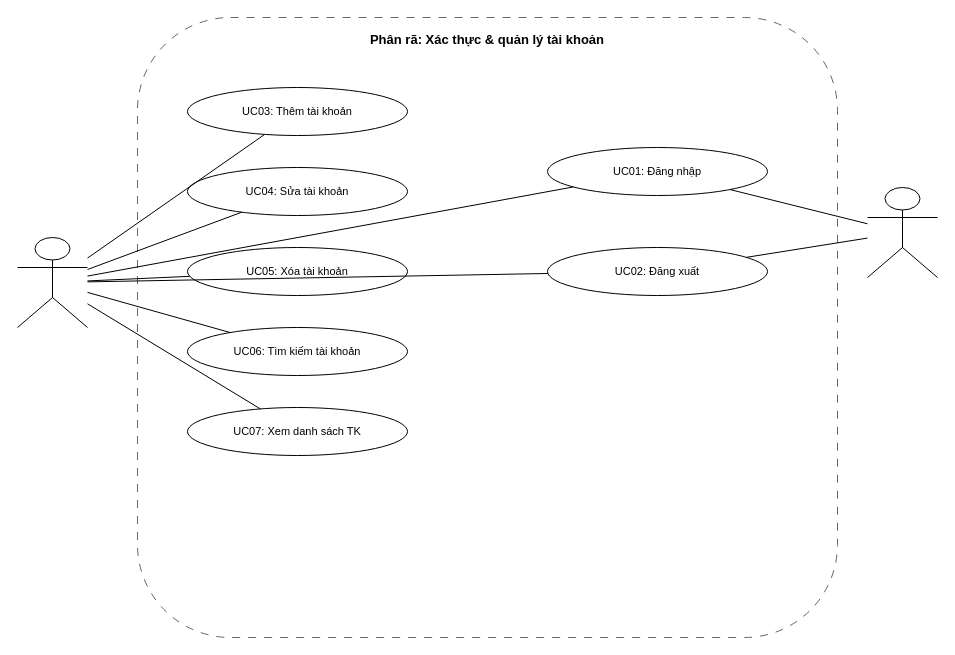
This 955x655 diagram has some shape labels left out. Here are the shapes that lost their labels. From the top down, the box of each, then its label:
(866, 186, 938, 278): Người dùng
(16, 236, 88, 328): Quản trị viên
